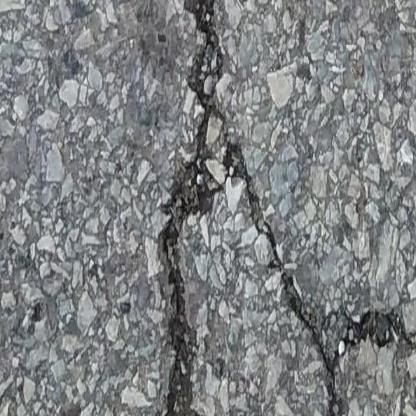Cracks: (150, 0, 416, 416)
